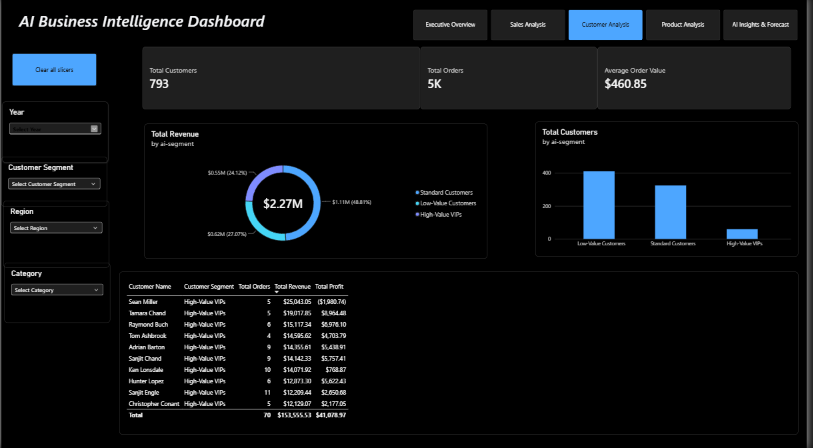

The page's visual inventory and layout, read from the dashboard file:
{"tool":"powerbi","page":{"name":"Customer Analysis","canvas":[1920,1080],"ordinal":2},"visuals":[{"type":"textbox","box":[2.4,31,665.7,74],"z":0},{"type":"donutChart","fields":{"Category":["ai_customer_segments.ai_segment"],"Y":["key Measures (2).Total Revenue"]},"box":[341.2,303,818.4,322.1],"z":1000},{"type":"clusteredColumnChart","fields":{"Category":["ai_customer_segments.ai_segment"],"Y":["key Measures (2).Total Customers"]},"box":[1274.1,298.2,627.5,322.1],"z":2000},{"type":"listSlicer","fields":{"Values":["DateTable.Year"]},"box":[3.3,250.5,252.9,145.5],"z":3000,"group":"g1"},{"type":"tableEx","fields":{"Values":["ai_customer_segments.customer_name","ai_customer_segments.ai_segment","key Measures (2).Total Orders","key Measures (2).Total Revenue","key Measures (2).Total Profit"]},"box":[281.5,656.1,1620,388.9],"z":3000},{"type":"cardVisual","fields":{"Data":["key Measures (2).Total Customers"]},"box":[336.4,119.3,663.3,150.3],"z":4000},{"type":"cardVisual","fields":{"Data":["key Measures (2).Total Orders"]},"box":[999.7,119.3,422.3,150.3],"z":5000},{"type":"listSlicer","fields":{"Values":["ai_customer_segments.ai_segment"]},"box":[0,382.3,252.9,119.3],"z":5000,"group":"g1"},{"type":"pageNavigator","box":[983,31,919,74],"z":6000},{"type":"cardVisual","fields":{"Data":["key Measures (2).Average Order Value"]},"box":[1422,119.3,462.9,150.3],"z":7000},{"type":"group","id":"g1","title":"Group 1","box":[0,250.5,260.1,527.3],"z":8000},{"type":"listSlicer","fields":{"Values":["superstore_sales.region"]},"box":[5.7,487.8,252.9,159.9],"z":8000,"group":"g1"},{"type":"actionButton","box":[26.2,136,200.4,76.3],"z":9000},{"type":"listSlicer","fields":{"Values":["superstore_sales.category"]},"box":[7,633.9,252.9,143.2],"z":10000,"group":"g1"}]}

Visuals, with their boxes in screenshot pixels (x1, y1, x2, y2), scaled from the page's 1920x1080 canvas onto the 813x448 screenshot:
textbox: {"left": 1, "top": 13, "right": 283, "bottom": 44}
donutChart - ai_customer_segments.ai_segment x key Measures (2).Total Revenue: {"left": 144, "top": 126, "right": 491, "bottom": 259}
clusteredColumnChart - ai_customer_segments.ai_segment x key Measures (2).Total Customers: {"left": 540, "top": 124, "right": 805, "bottom": 257}
listSlicer - DateTable.Year: {"left": 1, "top": 104, "right": 108, "bottom": 164}
tableEx - ai_customer_segments.customer_name x ai_customer_segments.ai_segment: {"left": 119, "top": 272, "right": 805, "bottom": 433}
cardVisual - key Measures (2).Total Customers: {"left": 142, "top": 49, "right": 423, "bottom": 112}
cardVisual - key Measures (2).Total Orders: {"left": 423, "top": 49, "right": 602, "bottom": 112}
listSlicer - ai_customer_segments.ai_segment: {"left": 0, "top": 159, "right": 107, "bottom": 208}
pageNavigator: {"left": 416, "top": 13, "right": 805, "bottom": 44}
cardVisual - key Measures (2).Average Order Value: {"left": 602, "top": 49, "right": 798, "bottom": 112}
"Group 1" group: {"left": 0, "top": 104, "right": 110, "bottom": 323}
listSlicer - superstore_sales.region: {"left": 2, "top": 202, "right": 110, "bottom": 269}
actionButton: {"left": 11, "top": 56, "right": 96, "bottom": 88}
listSlicer - superstore_sales.category: {"left": 3, "top": 263, "right": 110, "bottom": 322}
